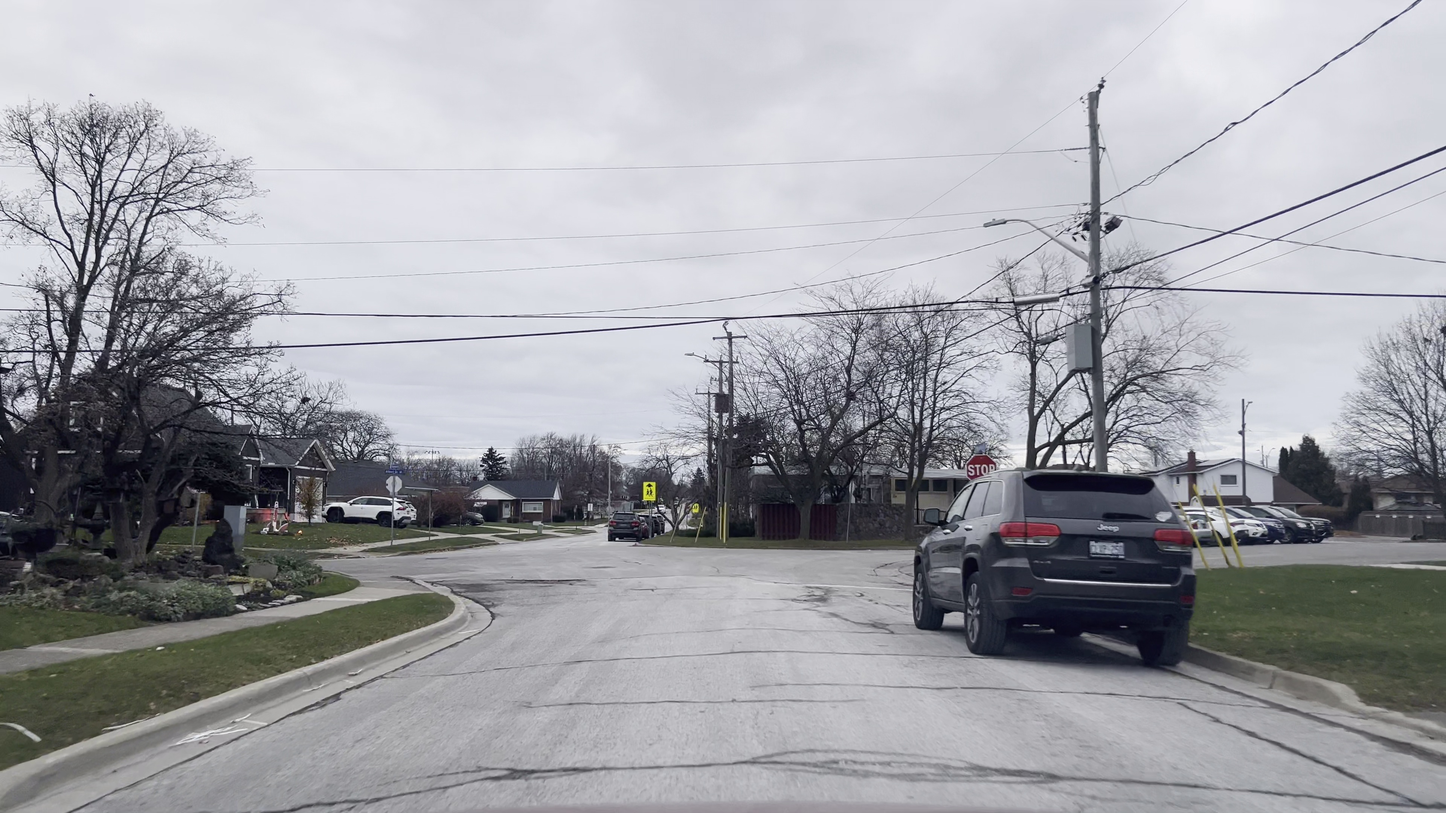cracks: (457, 746, 1134, 790), (1183, 703, 1317, 760), (528, 691, 847, 714), (1345, 764, 1441, 813), (267, 797, 363, 813), (851, 611, 899, 638)
